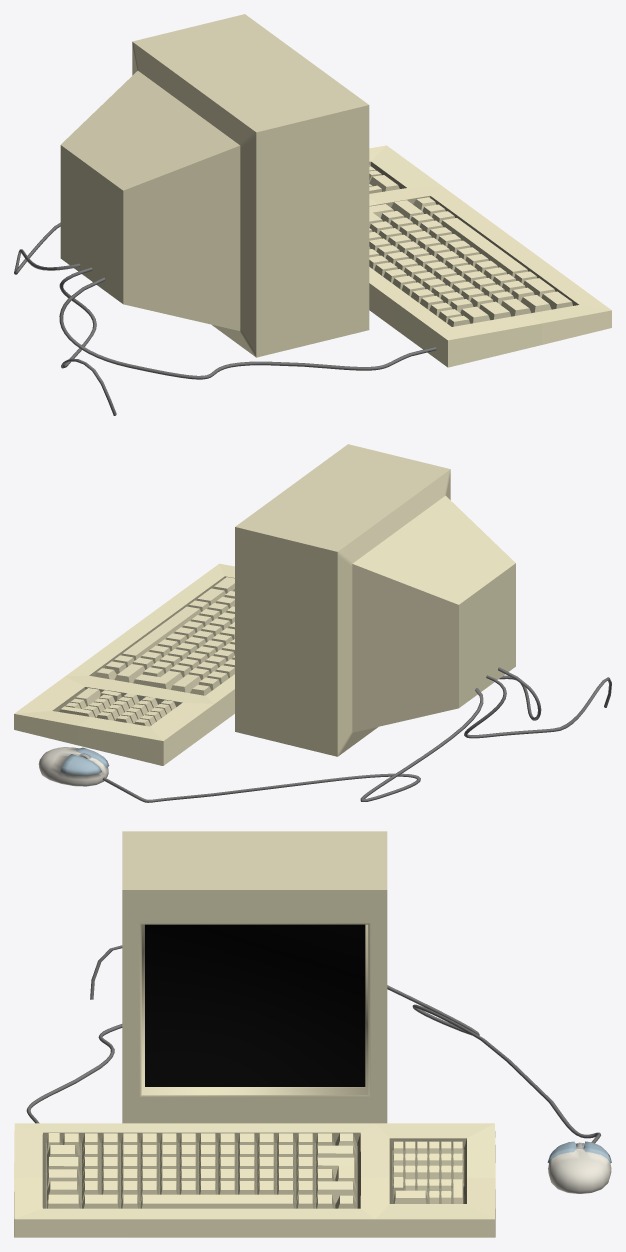
File: computador .fbx
The picture shows the model from 3 angles, top to bottom: view 1: azimuth 30°, elevation 25°; view 2: azimuth 150°, elevation 25°; view 3: azimuth 270°, elevation 25°; orthographic projection. The views are drawn at different scales.
Visible parts, largest first — view 1: BézierCurve; view 2: BézierCurve; view 3: BézierCurve.
Boxes of the visible parts, <box> form: BézierCurve: <box>14,14,611,415</box>; BézierCurve: <box>14,444,611,802</box>; BézierCurve: <box>14,831,611,1237</box>.
Bounding box in the file's own units: 118 × 55.17 × 120.
